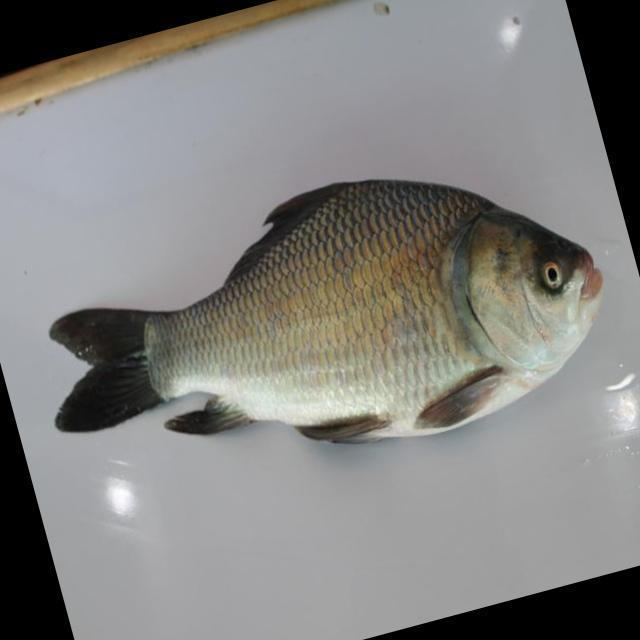Indian Carp: (46, 177, 601, 454)
